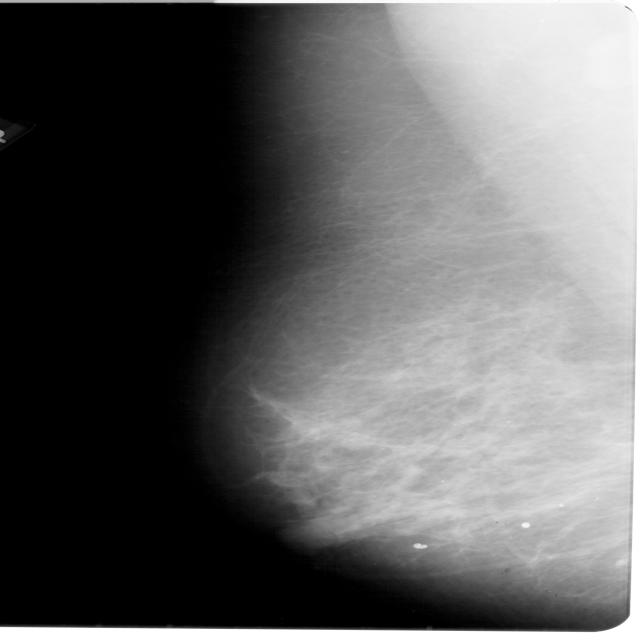normal: (191, 0, 640, 630)
